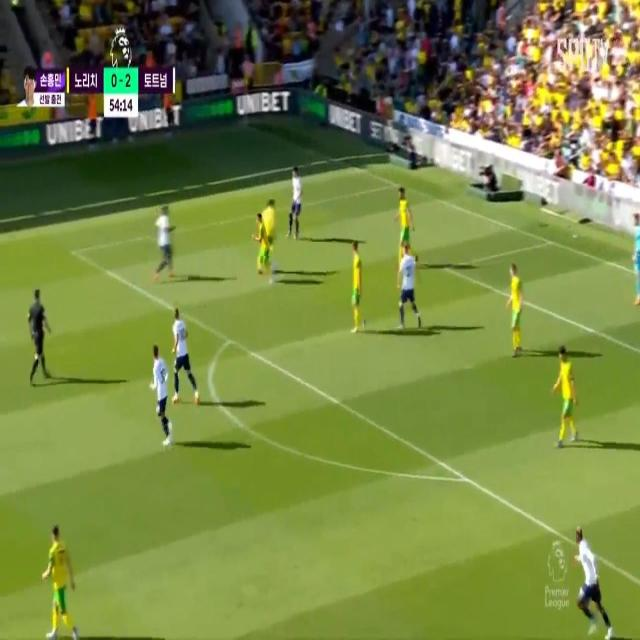player: (40, 526, 71, 640), (148, 343, 170, 447), (555, 348, 575, 446), (574, 532, 594, 627), (345, 232, 363, 330), (170, 309, 188, 394), (284, 166, 304, 238), (509, 260, 521, 354), (401, 242, 414, 324), (157, 206, 173, 272), (258, 207, 270, 281), (264, 201, 278, 259), (398, 180, 410, 247)
referee: (29, 288, 49, 386)
